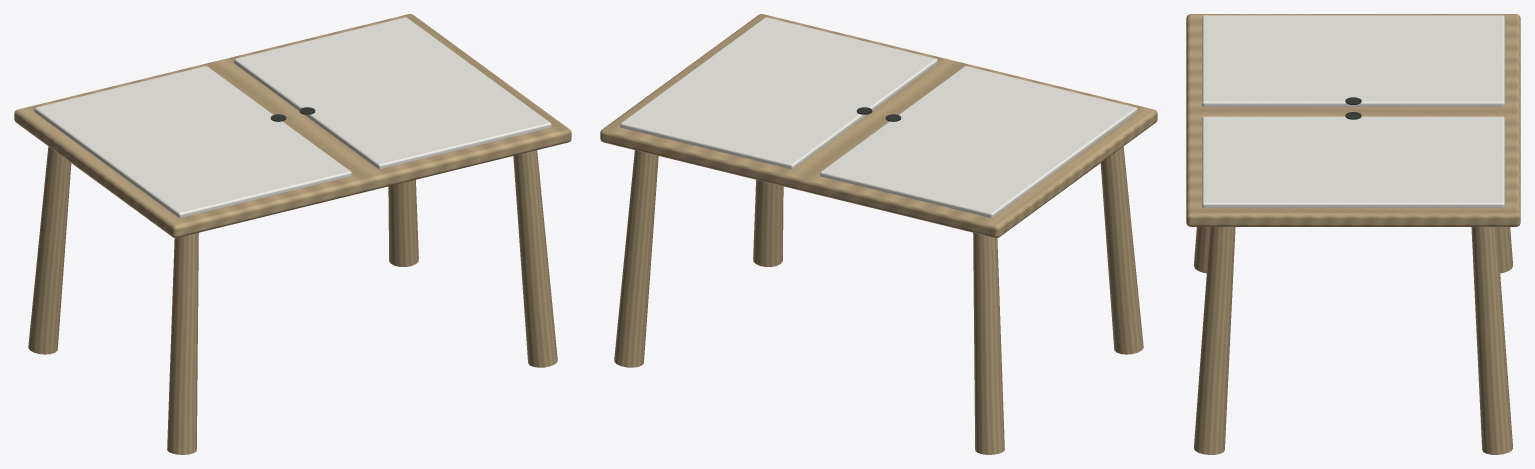
Rendered from flisat.glb.
3 renders of one model, left to right at view 1: azimuth 30°, elevation 25°; view 2: azimuth 150°, elevation 25°; view 3: azimuth 270°, elevation 25°, orthographic. The views are drawn at different scales.
Visible parts, largest first — view 1: FLISAT Children’s table; view 2: FLISAT Children’s table; view 3: FLISAT Children’s table.
Boxes of the visible parts, left/top/right/bottom form: FLISAT Children’s table: left=14, top=14, right=571, bottom=454; FLISAT Children’s table: left=600, top=14, right=1157, bottom=454; FLISAT Children’s table: left=1186, top=14, right=1520, bottom=454.
Bounding box in the file's own units: 0.83 × 0.48 × 0.58.
3 materials, 3 textured.
